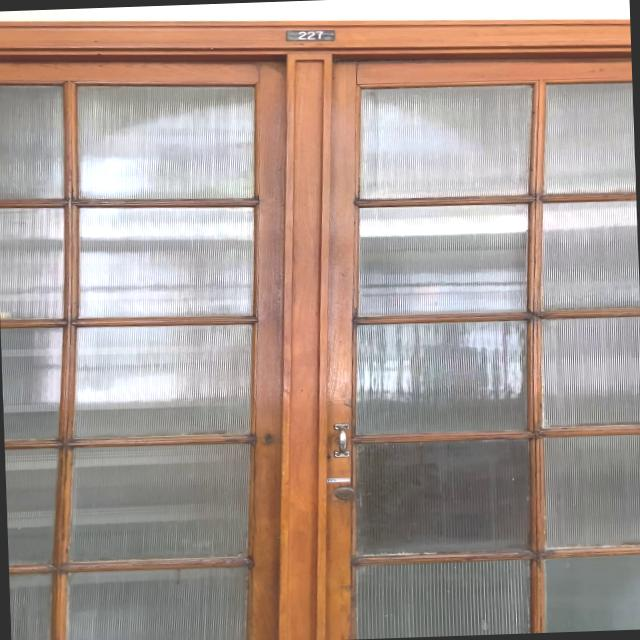room227: (283, 28, 340, 42)
